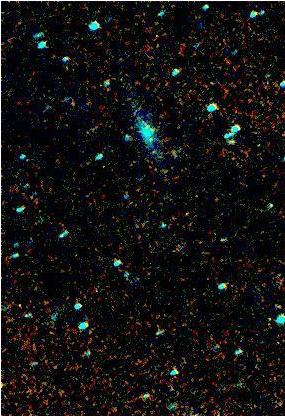star: (146, 136, 176, 166)
